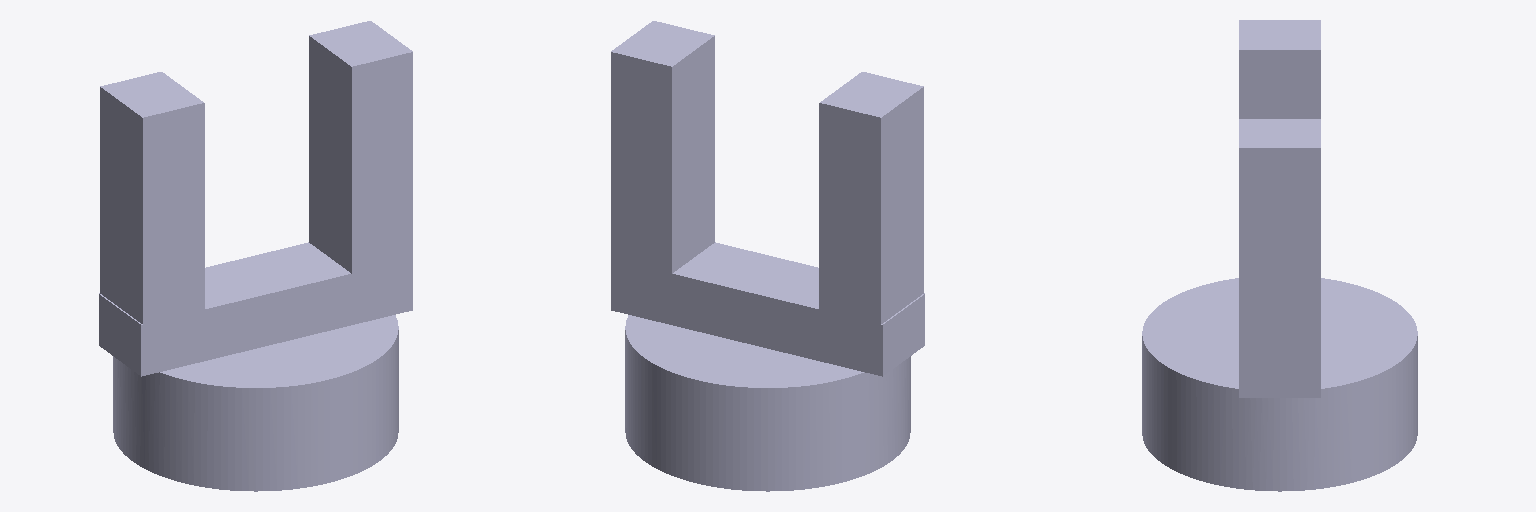
robot.urdf — gripper:
<?xml version="1.0" ?>
<robot name="gripper">
  <!--Generated by CROSS, a ROS Workbench for FreeCAD (https://github.com/galou/freecad.cross)-->
  <link name="Link">
    <visual>
      <!--base_link_part/Body.-->
      <origin rpy="0.0 -0.0 0.0" xyz="0.0 0.0 0.0"/>
      <geometry>
        <mesh filename="package://my_robot_arm/meshes/Unnamed_base_link_body.dae"/>
      </geometry>
    </visual>
    <collision>
      <!--base_link_part/Body.-->
      <origin rpy="0.0 -0.0 0.0" xyz="0.0 0.0 0.0"/>
      <geometry>
        <mesh filename="package://my_robot_arm/meshes/Unnamed_base_link_body.dae"/>
      </geometry>
    </collision>
    <inertial>
      <mass value="0.0"/>
      <origin rpy="0.0 -0.0 0.0" xyz="0.0 0.0 0.0"/>
      <inertia ixx="0.0" ixy="0.0" ixz="0.0" iyy="0.0" iyz="0.0" izz="0.0"/>
    </inertial>
  </link>
  <link name="Link001">
    <visual>
      <!--finger_link_part/Body001.-->
      <origin rpy="0.0 -0.0 0.0" xyz="0.0 0.0 0.0"/>
      <geometry>
        <mesh filename="package://my_robot_arm/meshes/Unnamed_finger_link_body.dae"/>
      </geometry>
    </visual>
    <collision>
      <!--finger_link_part/Body001.-->
      <origin rpy="0.0 -0.0 0.0" xyz="0.0 0.0 0.0"/>
      <geometry>
        <mesh filename="package://my_robot_arm/meshes/Unnamed_finger_link_body.dae"/>
      </geometry>
    </collision>
    <inertial>
      <mass value="0.0"/>
      <origin rpy="0.0 -0.0 0.0" xyz="0.0 0.0 0.0"/>
      <inertia ixx="0.0" ixy="0.0" ixz="0.0" iyy="0.0" iyz="0.0" izz="0.0"/>
    </inertial>
  </link>
  <joint name="Joint" type="prismatic">
    <parent link="Link"/>
    <child link="Link001"/>
    <origin rpy="0.0 -0.0 0.0" xyz="-0.042 0.0 0.06"/>
    <axis xyz="1 0 0"/>
    <limit effort="1000.0" lower="0.0" upper="0.05" velocity="1"/>
  </joint>
</robot>

--- What the picture shows (computed from the rendered views, not written in the file) ---
3 views of the same robot in one strip: view 1: azimuth 30°, elevation 25°; view 2: azimuth 150°, elevation 25°; view 3: azimuth 270°, elevation 25° (orthographic).
Model gripper with 2 links and 1 joints (1 prismatic), rooted at Link, posed every joint at zero.
Links seen in each view (by area): view 1: Link, Link001; view 2: Link, Link001; view 3: Link, Link001.
Link boxes in pixels (x1,y1,x2,y2): Link: (99,21,412,491); Link001: (100,72,204,323); Link: (611,21,924,491); Link001: (819,72,923,323); Link: (1142,119,1417,491); Link001: (1239,20,1320,118).
Size in the robot's own frame: 0.1102 by 0.1 by 0.14 metres.
2 mesh visuals loaded from 2 distinct referenced files (2 Collada DAE).